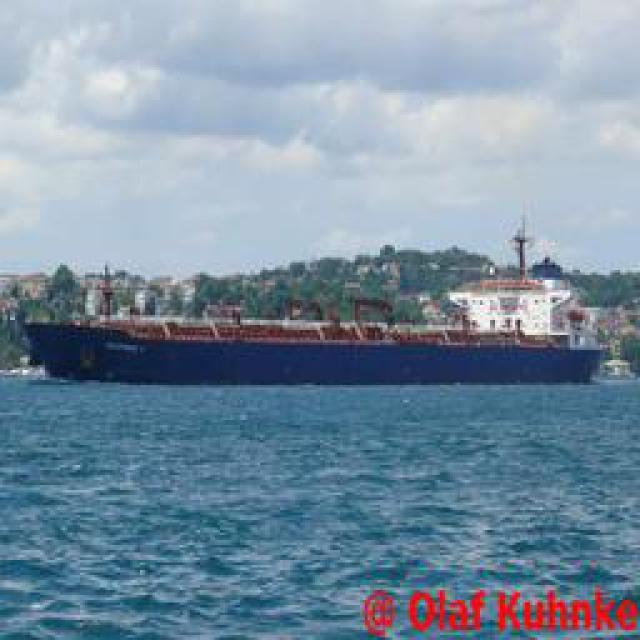Ship: (31, 277, 609, 387)
